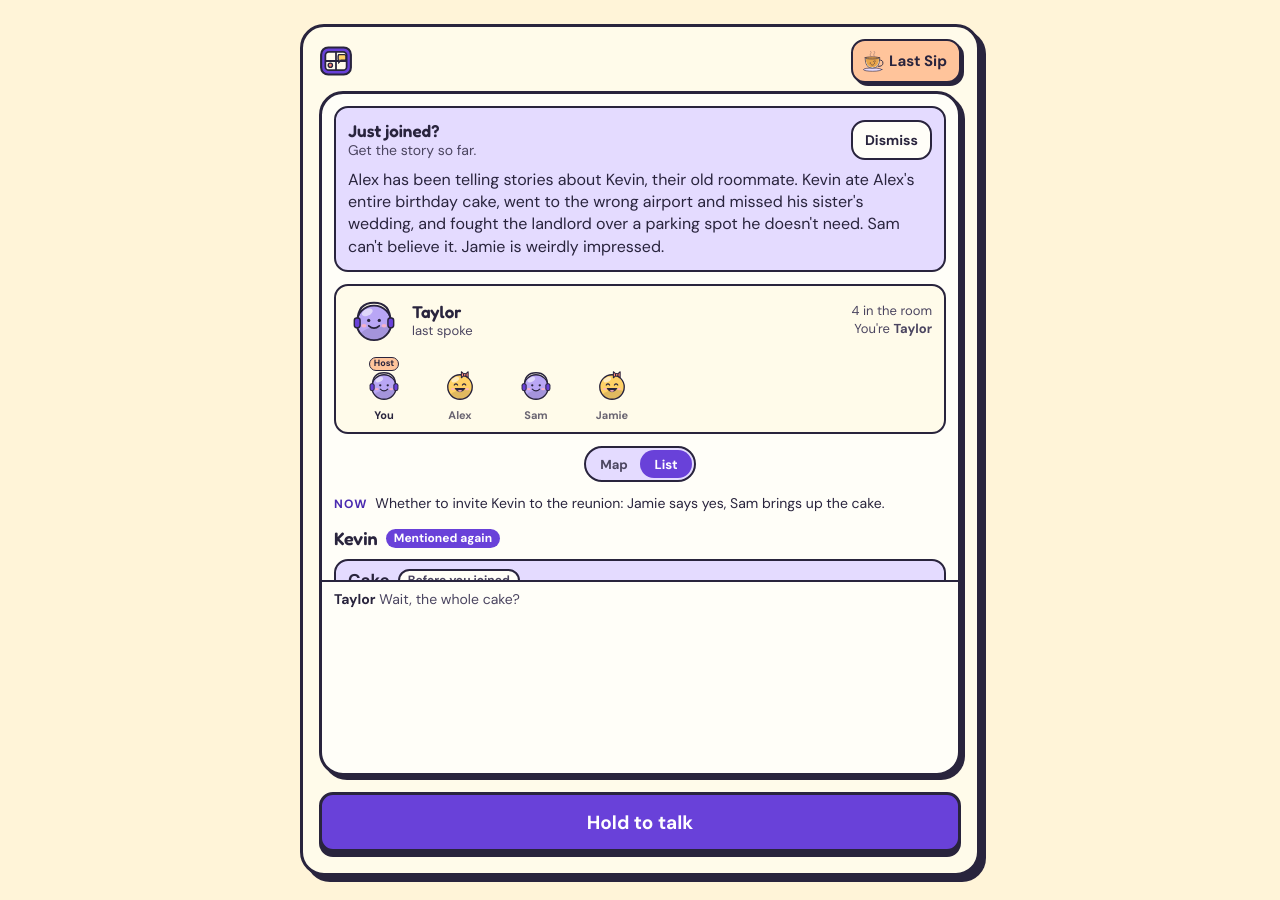
Test: Burn button › returns focus to Burn room… when the sheet closes by Keep talking, Escape or the scrim
Click the button "Last Sip" at (906,61), box [851,39,961,83]
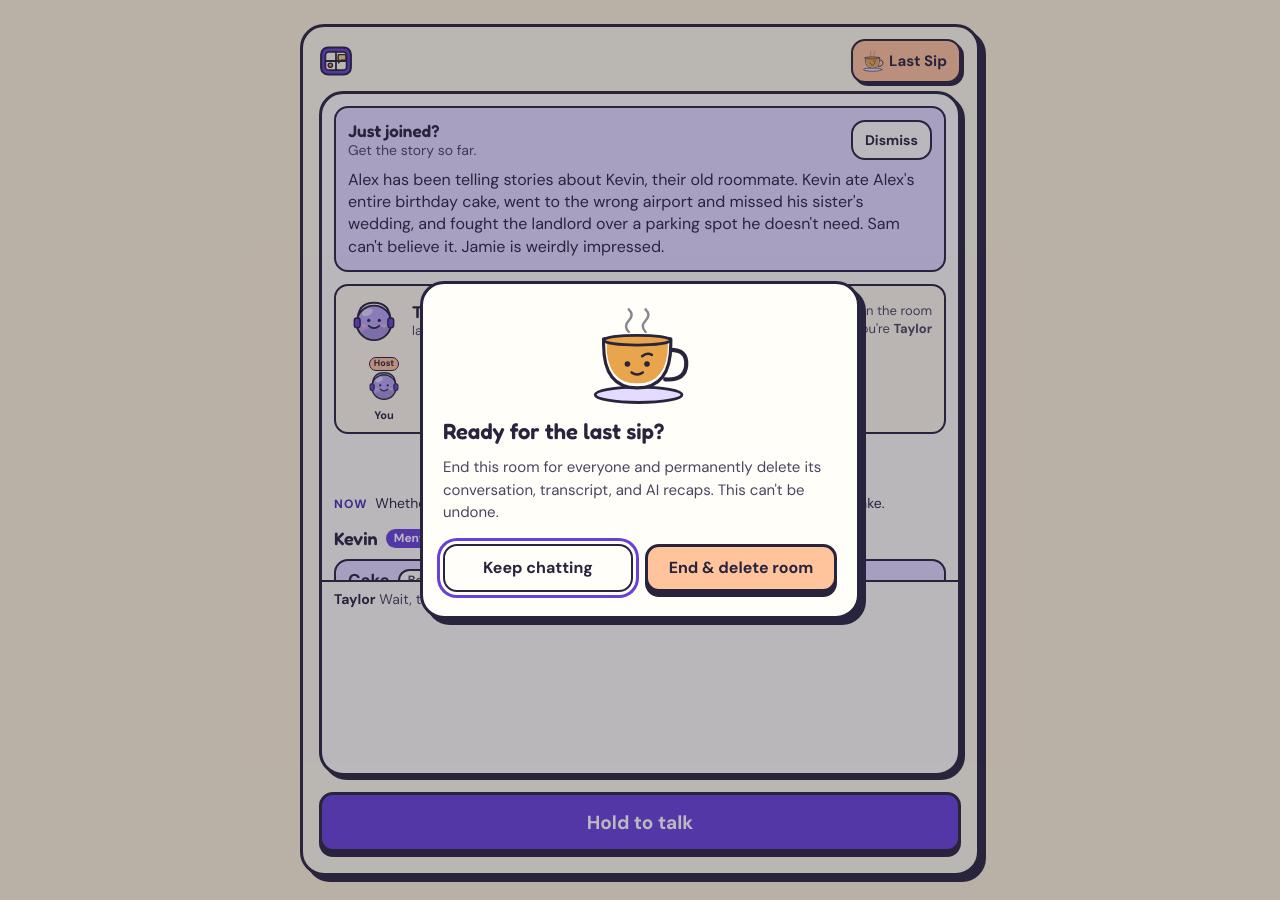
Click the button "Keep chatting" at (538,568), box [443,544,633,592]
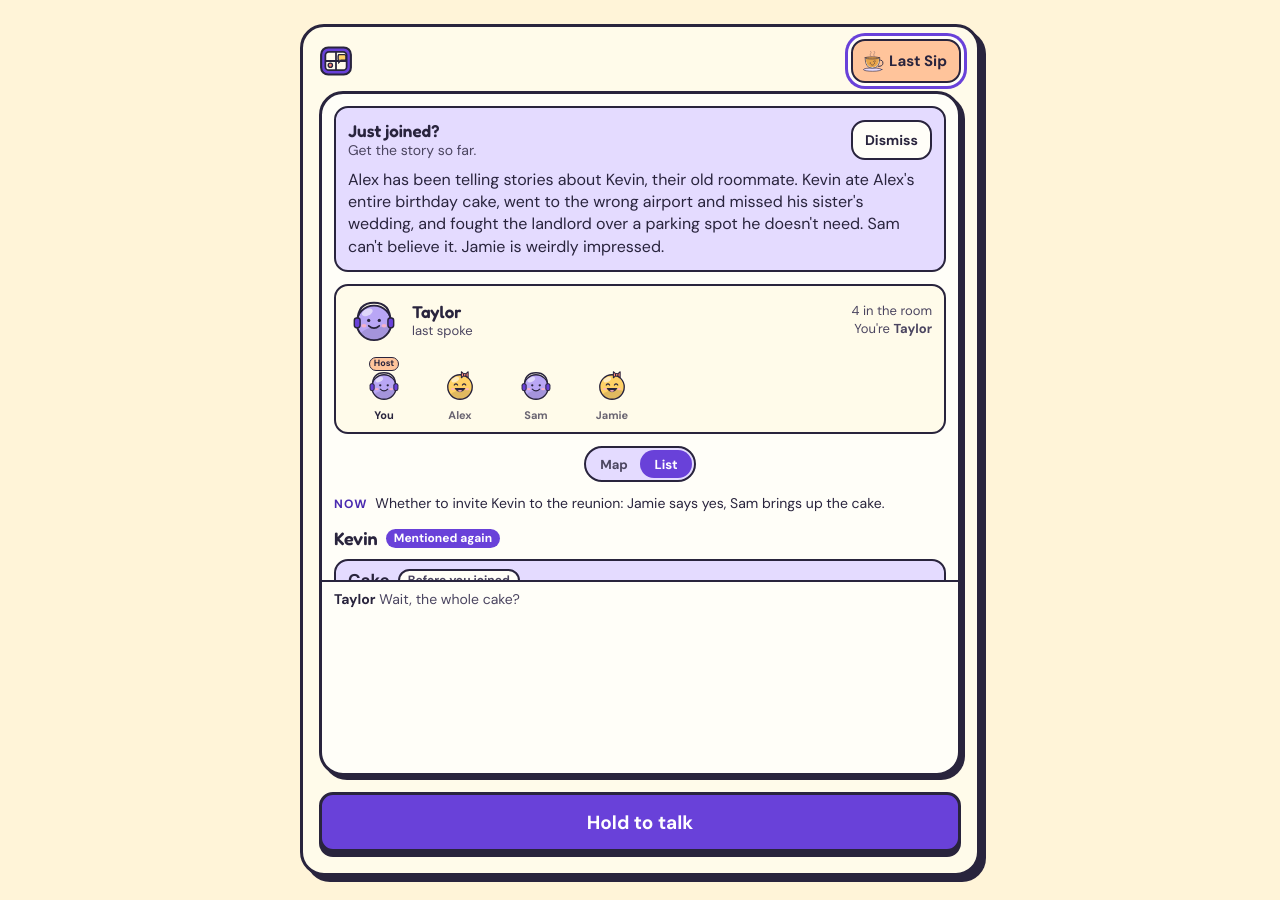
Expected: the dialog is gone
Click the button "Last Sip" at (906,61), box [851,39,961,83]
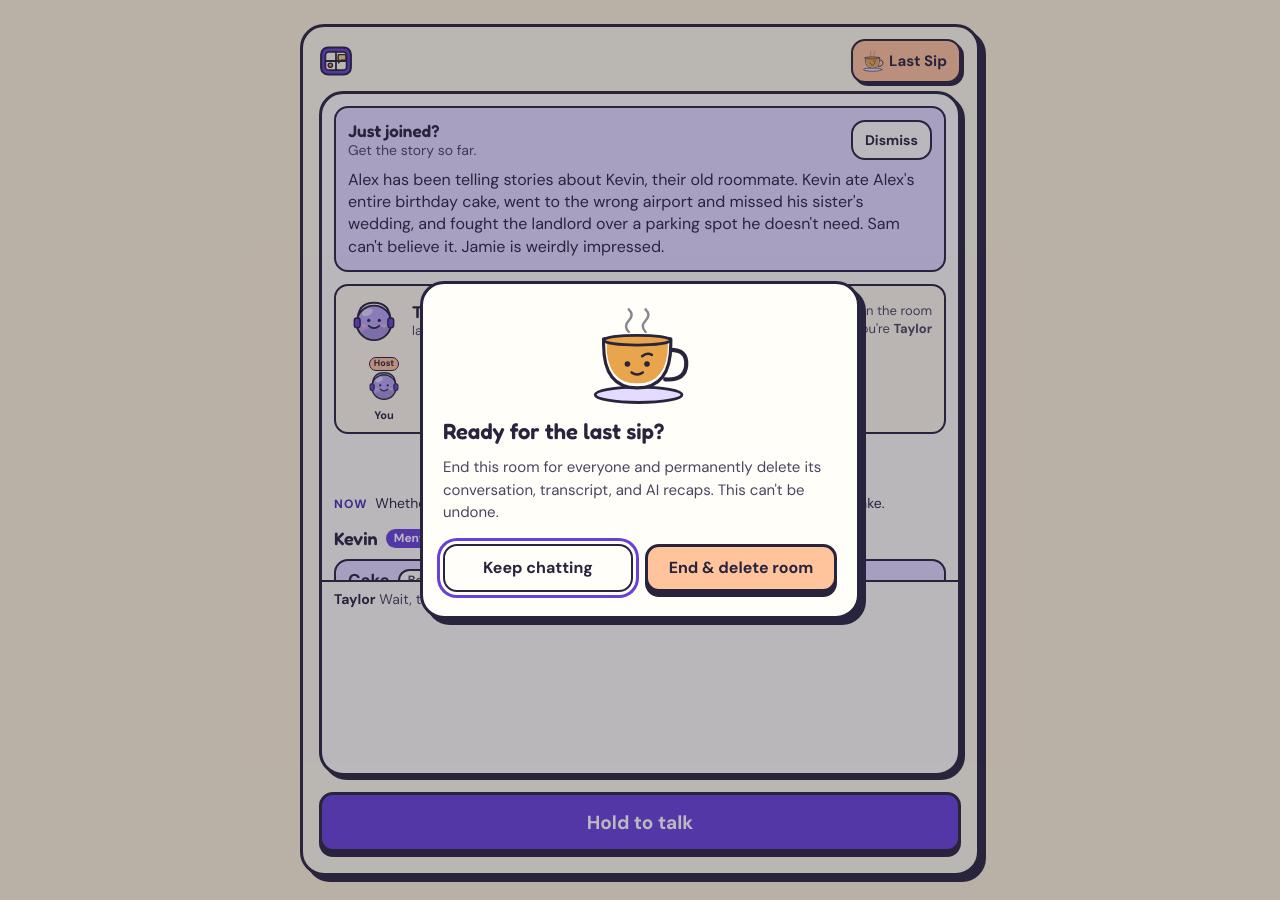
Press Escape
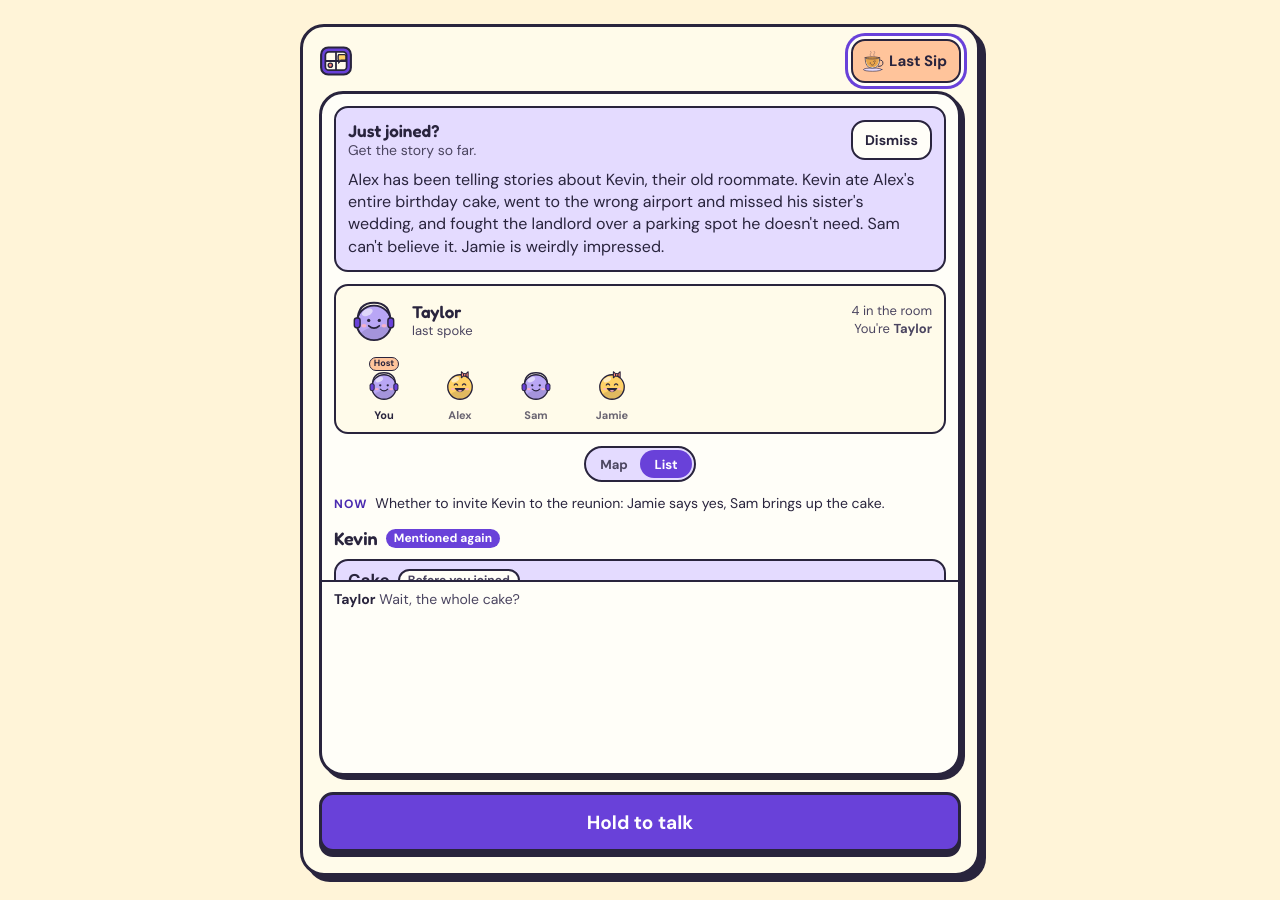
Expected: the dialog is gone
Click the button "Last Sip" at (906,61), box [851,39,961,83]
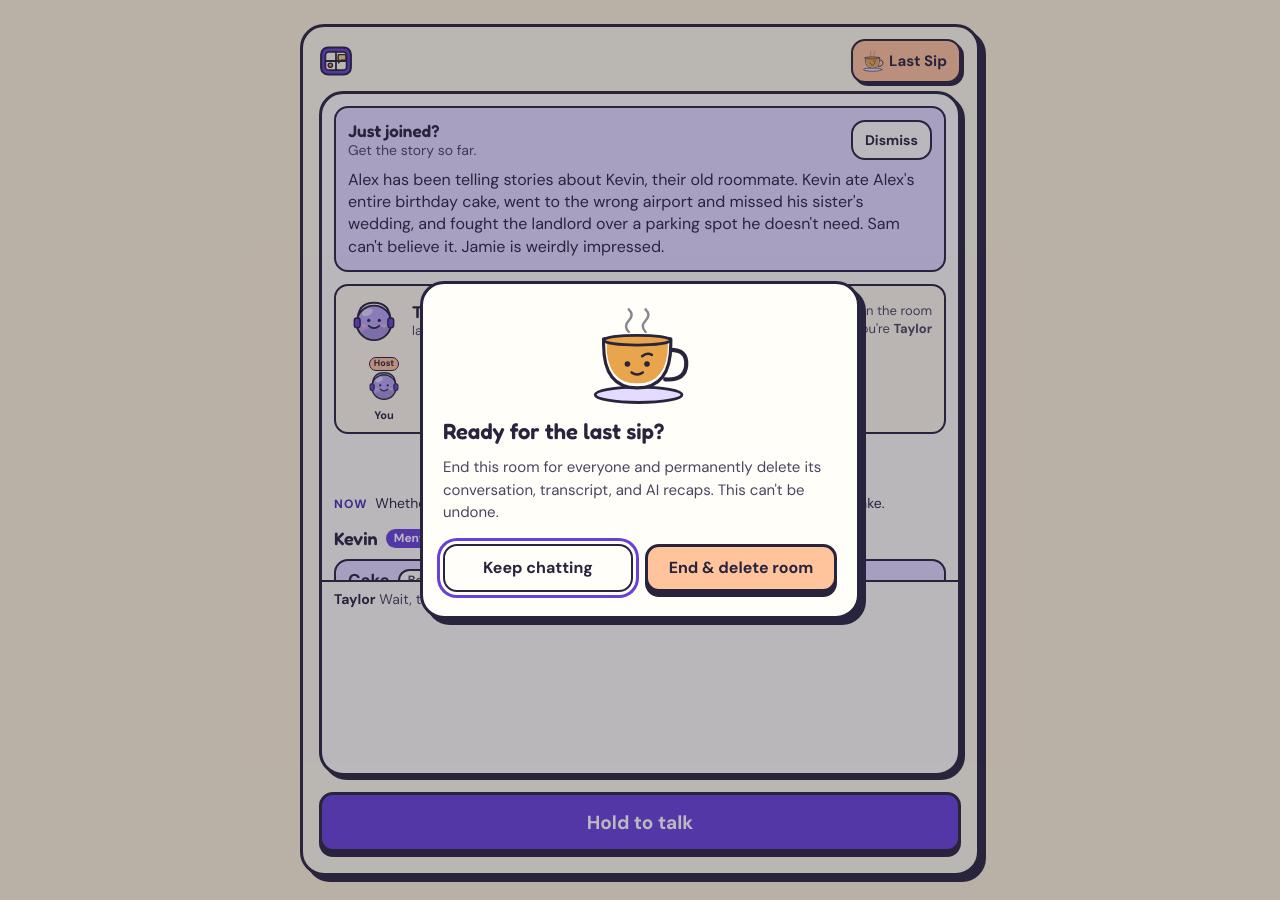
Click the element with class "burn-scrim" at (77,450), box [0,0,1279,899]
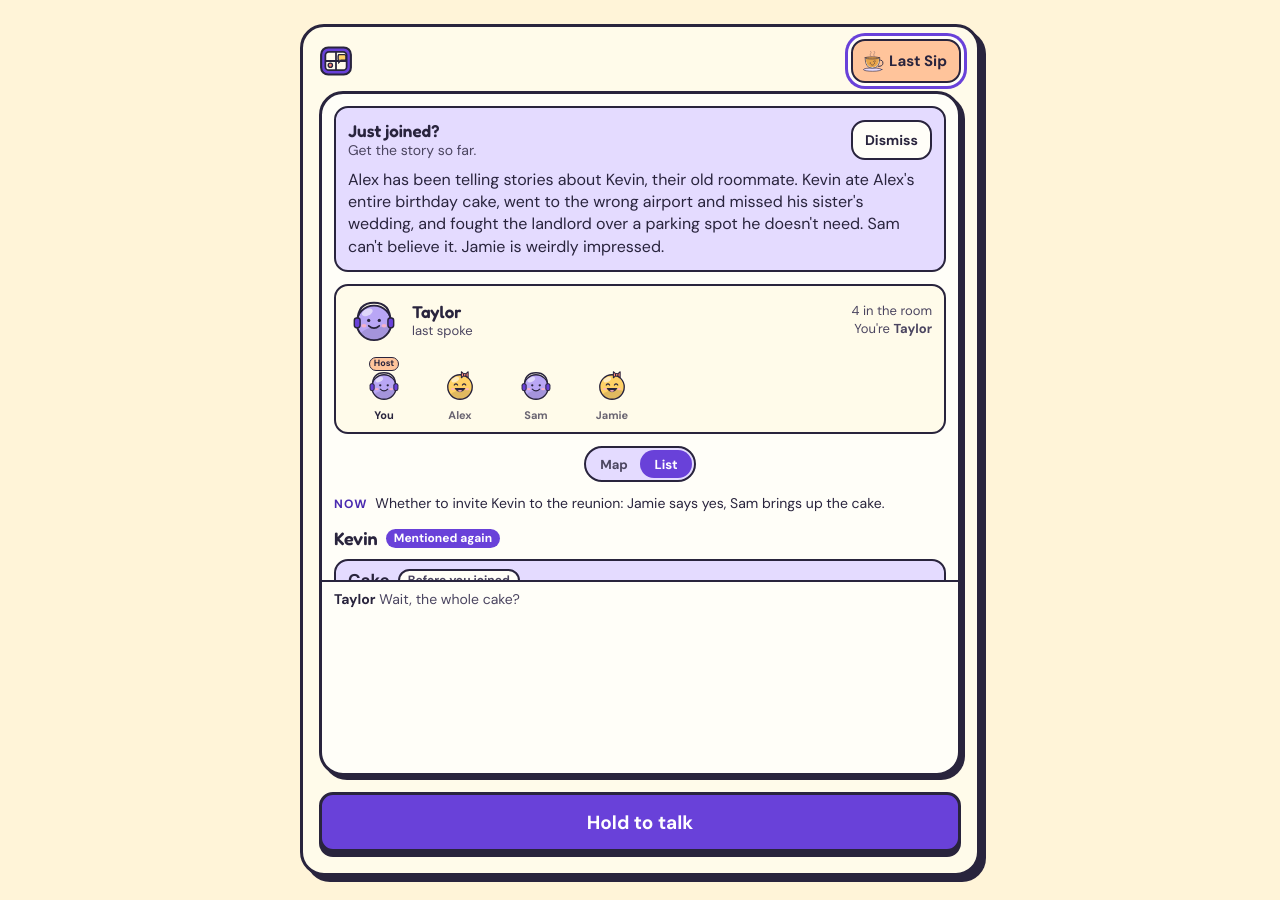
Expected: the dialog is gone
